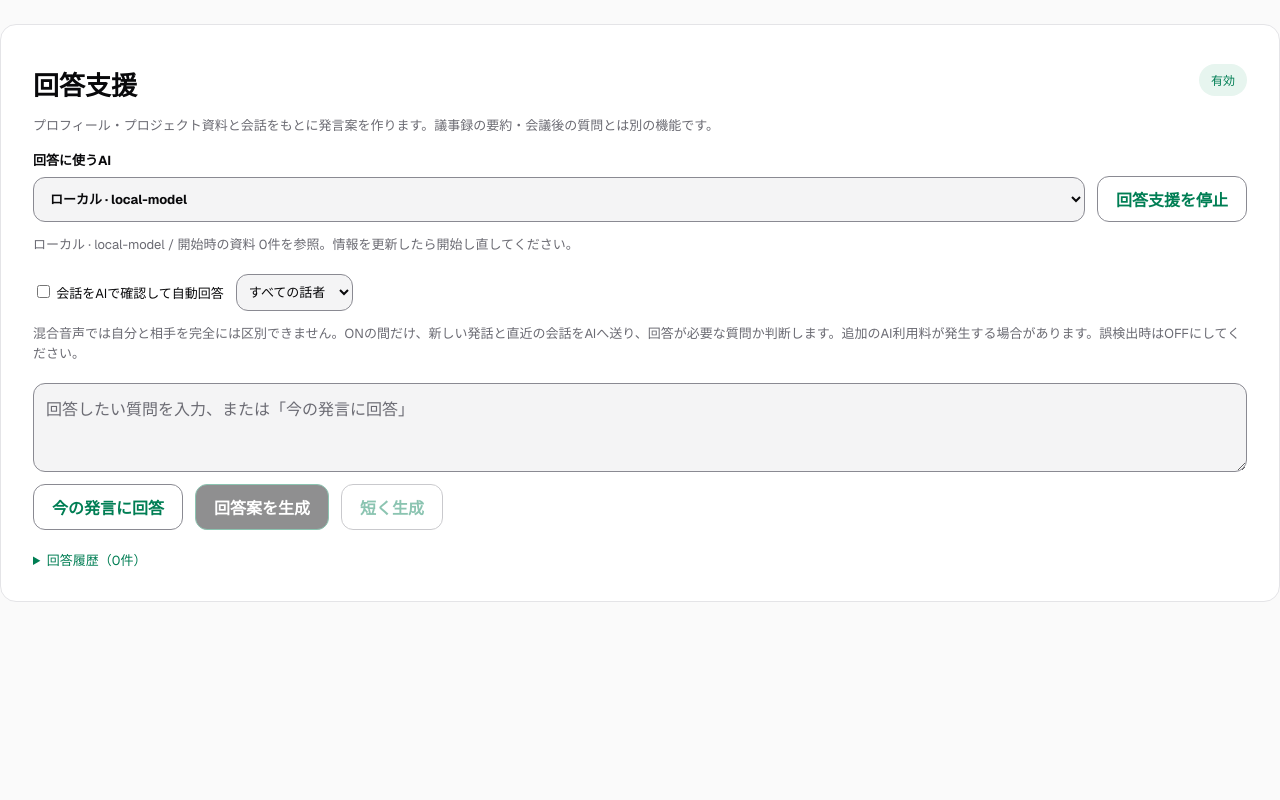
Test case: answer assistance profile selection › stops the old AI before changing profile and requires fresh consent
Select "クラウド · gemini-model" in the dropdown labelled "回答に使うAI": (559, 199) [33,177,1085,222]
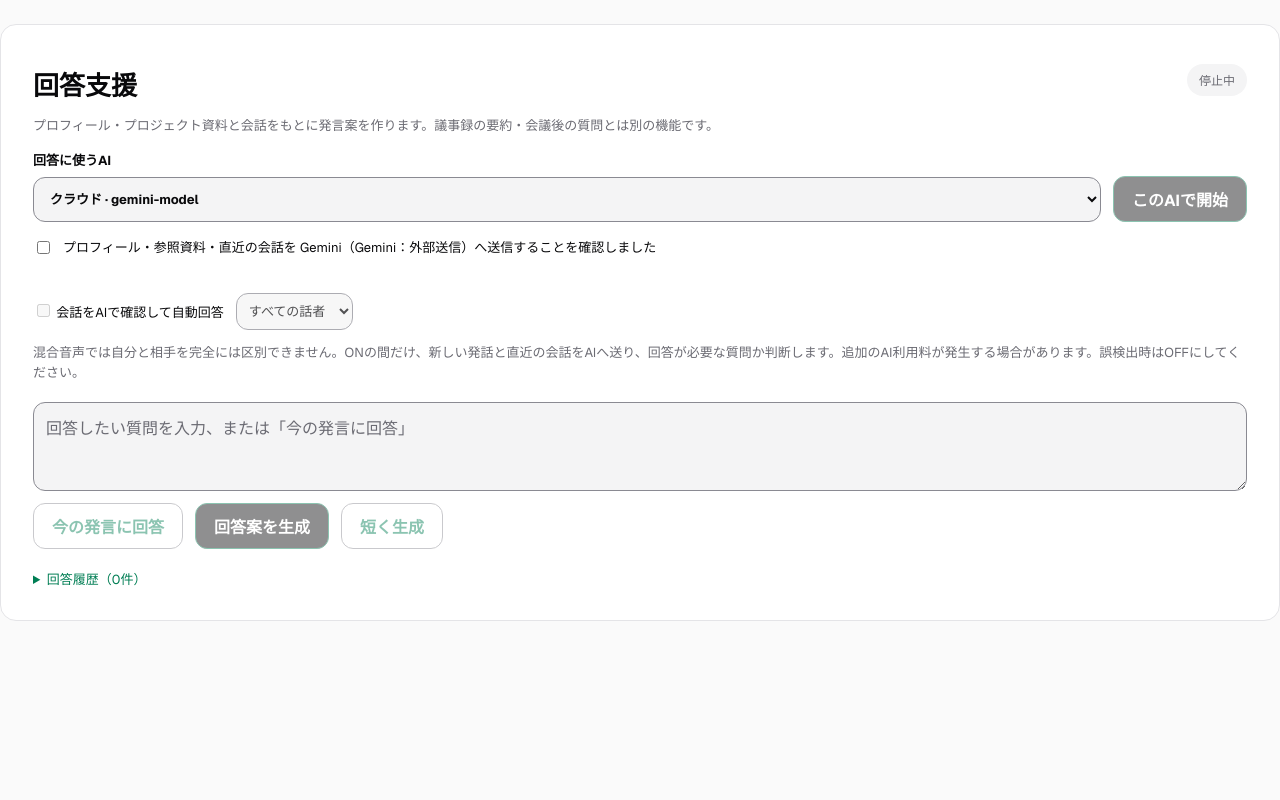
Result: the button "このAIで開始" is disabled at [1113,176,1247,222]
Result: the text "Gemini：外部送信" is shown at [355,239,461,256]
